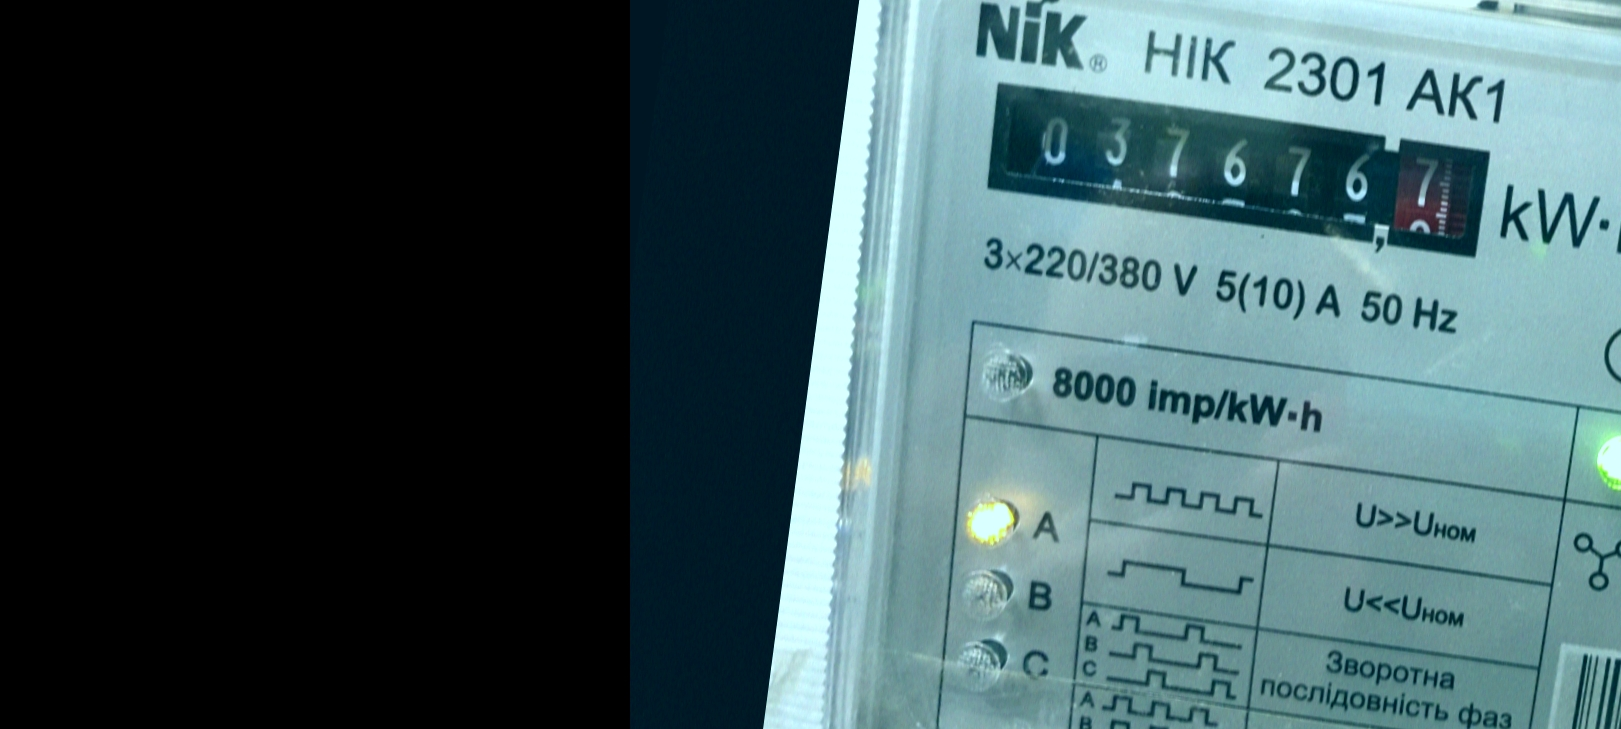0: (1040, 109, 1080, 168)
3: (1103, 109, 1138, 169)
6: (1221, 130, 1260, 188), (1343, 146, 1380, 204)
7: (1281, 140, 1320, 201), (1160, 120, 1198, 180), (1411, 151, 1446, 210)
screen: (970, 62, 1513, 277)
